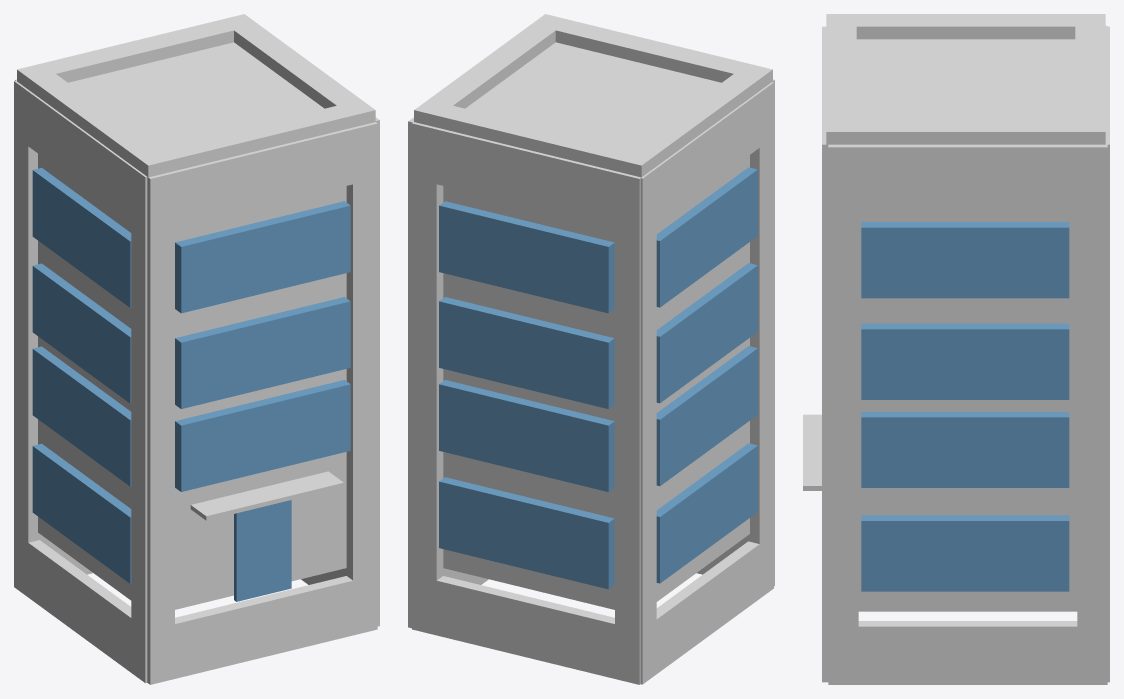
The model's file is Building_Icon.fbx.
The picture shows the model from 3 angles, left to right: view 1: azimuth 30°, elevation 25°; view 2: azimuth 150°, elevation 25°; view 3: azimuth 270°, elevation 25°; orthographic projection. The views are drawn at different scales.
Parts seen in each view (by area): view 1: Building, Building.001; view 2: Building, Building.001; view 3: Building, Building.001.
Part boxes in pixels (x1,y1,x2,y2): Building: [14, 14, 379, 684]; Building.001: [32, 167, 350, 601]; Building: [408, 14, 774, 684]; Building.001: [439, 167, 757, 589]; Building: [803, 14, 1109, 684]; Building.001: [861, 222, 1069, 591].
Bounding box in the file's own units: 221 × 467 × 236.
